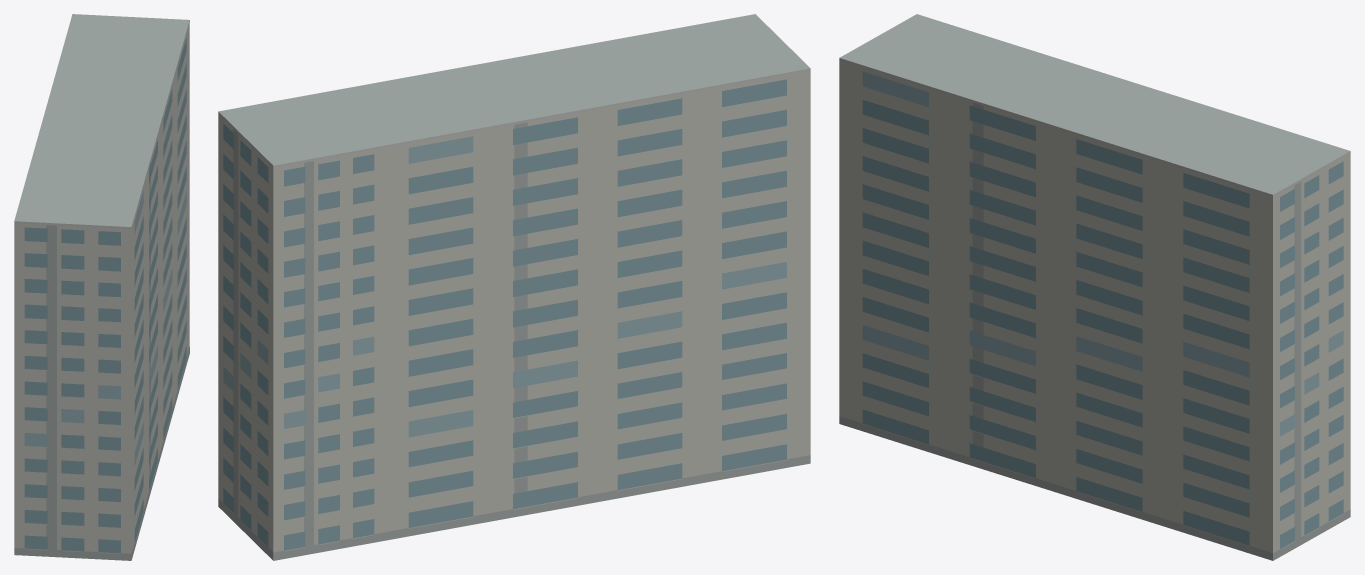
Rendered from residential-495a05ce-a790-4844-af37-4f091f7ab5be.glb.
3 views of the same model, side by side, from view 1: azimuth 30°, elevation 25°; view 2: azimuth 150°, elevation 25°; view 3: azimuth 270°, elevation 25° (orthographic). The views are drawn at different scales.
Visible parts, largest first — view 1: residential-495a05ce-a790-4844-af37-4f091f7ab5be.tmp; view 2: residential-495a05ce-a790-4844-af37-4f091f7ab5be.tmp; view 3: residential-495a05ce-a790-4844-af37-4f091f7ab5be.tmp.
Part boxes in pixels (x1,y1,x2,y2): residential-495a05ce-a790-4844-af37-4f091f7ab5be.tmp: (14,14,189,560); residential-495a05ce-a790-4844-af37-4f091f7ab5be.tmp: (218,14,810,560); residential-495a05ce-a790-4844-af37-4f091f7ab5be.tmp: (839,14,1350,560).
Size of the model in its own units: 38.15 by 36 by 45.57.
